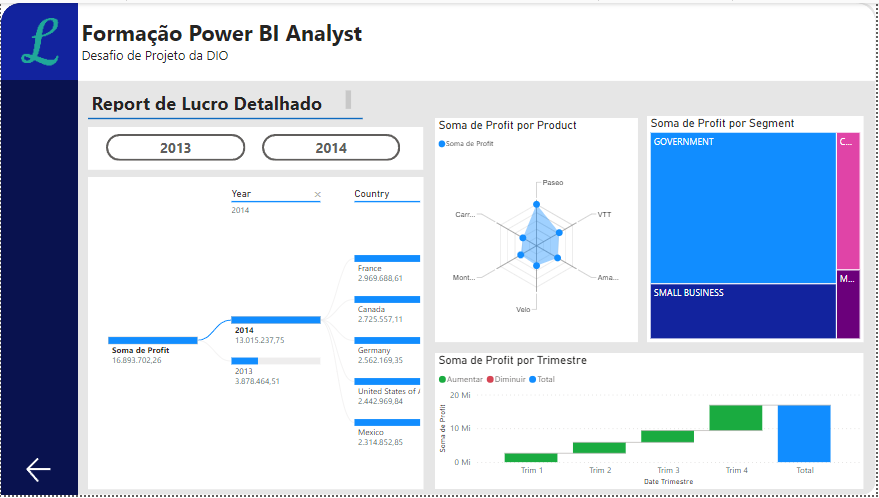

This screenshot's page, from the dashboard's own definition file:
{"tool":"powerbi","page":{"name":"P2","canvas":[1280,720],"ordinal":1},"visuals":[{"type":"shape","box":[10.1,0,1269.9,719.7],"z":0},{"type":"decompositionTreeVisual","fields":{"Analyze":["Sum(financials.Profit)"],"ExplainBy":["financials.Year","financials.Country"]},"box":[127.1,254.2,490.5,456.5],"z":1000},{"type":"treemap","fields":{"Values":["Sum(financials.Profit)"],"Group":["financials.Segment"]},"box":[945.2,164.7,316.9,331.2],"z":2000},{"type":"RadarChart1446119667547","fields":{"Y":["Sum(financials.Profit)"],"Category":["financials.Product"]},"box":[635.5,168.3,297.2,327.6],"z":3000},{"type":"waterfallChart","fields":{"Category":["financials.Date.Variation.Hierarquia de datas.Trimestre"],"Y":["Sum(financials.Profit)"]},"box":[635.5,512,626.6,198.7],"z":4000},{"type":"shape","box":[0,0,112.7,720],"z":5000},{"type":"shape","box":[0,0,112.8,112.8],"z":6000},{"type":"image","title":"Logo L","box":[13.4,13.4,87.2,87.2],"z":7000},{"type":"shape","box":[112.8,0,1167.2,114.2],"z":8000},{"type":"textbox","box":[112.7,16.1,537.1,82],"z":9000},{"type":"shape","box":[127.3,147.8,402.4,42.4],"z":10000},{"type":"textbox","box":[127.1,123.5,390.3,41.2],"z":10001},{"type":"actionButton","box":[32.2,660.6,48.3,46.5],"z":10002},{"type":"shape","box":[127.1,180.8,490.5,62.7],"z":10003},{"type":"actionButton","box":[154,191.6,204.1,39.4],"z":10004},{"type":"actionButton","box":[381.3,191.6,202.3,39.4],"z":10005}]}

Visuals, with their boxes on the page's 1280x720 design canvas (x1, y1, x2, y2). These are canvas units, not pixel positions in the 879x498 screenshot, which may show the page scaled, cropped or inside an application window:
shape: (x1=10, y1=0, x2=1280, y2=720)
decompositionTreeVisual - Sum(financials.Profit) x financials.Year: (x1=127, y1=254, x2=618, y2=711)
treemap - Sum(financials.Profit) x financials.Segment: (x1=945, y1=165, x2=1262, y2=496)
RadarChart1446119667547 - Sum(financials.Profit) x financials.Product: (x1=636, y1=168, x2=933, y2=496)
waterfallChart - financials.Date.Variation.Hierarquia de datas.Trimestre x Sum(financials.Profit): (x1=636, y1=512, x2=1262, y2=711)
shape: (x1=0, y1=0, x2=113, y2=720)
shape: (x1=0, y1=0, x2=113, y2=113)
"Logo L" image: (x1=13, y1=13, x2=101, y2=101)
shape: (x1=113, y1=0, x2=1280, y2=114)
textbox: (x1=113, y1=16, x2=650, y2=98)
shape: (x1=127, y1=148, x2=530, y2=190)
textbox: (x1=127, y1=124, x2=517, y2=165)
actionButton: (x1=32, y1=661, x2=80, y2=707)
shape: (x1=127, y1=181, x2=618, y2=244)
actionButton: (x1=154, y1=192, x2=358, y2=231)
actionButton: (x1=381, y1=192, x2=584, y2=231)
